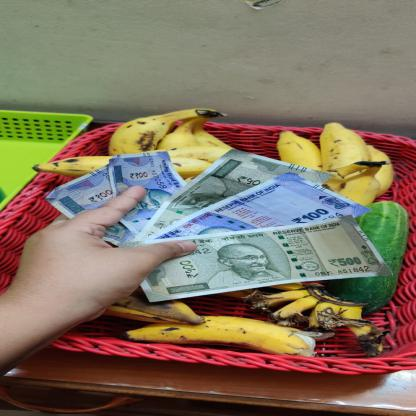New100Front: (141, 171, 373, 240), (44, 164, 136, 246), (108, 150, 188, 237)
New500Front: (116, 214, 395, 302), (132, 148, 335, 241)
